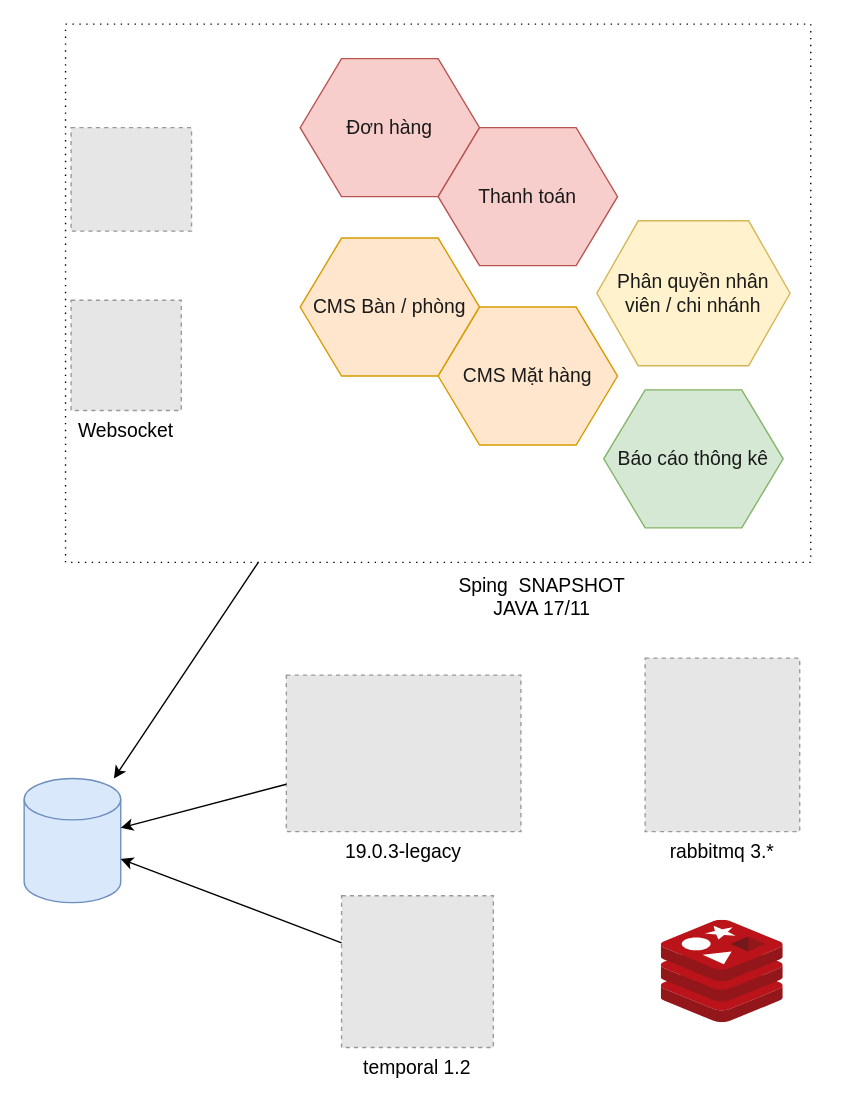
The diagram is 849 pixels wide and 1104 high, and some of its shapes have lost their labels. Grey dashed boxes stand in for pictures. Here are the shapes that lost their labels. From the top down, the box of each, then its label:
(23, 777, 121, 903): Postgres DB 15.0
(661, 920, 783, 1022): Redis Caching 7.0
